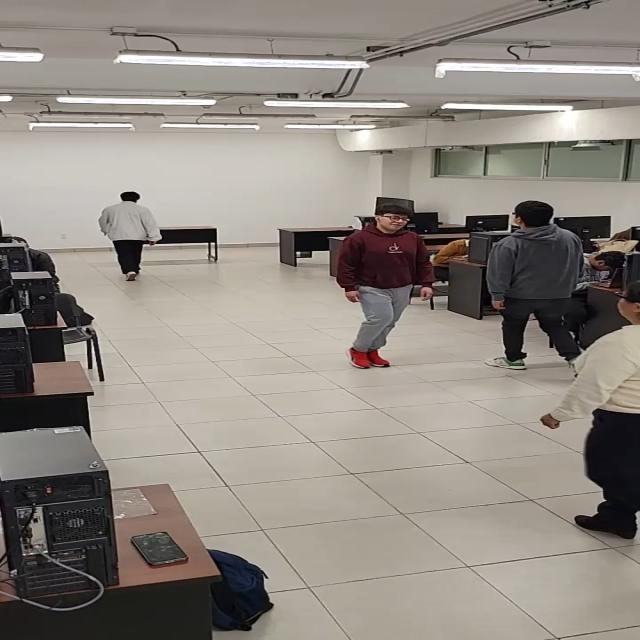Persona: (537, 279, 640, 539), (484, 198, 591, 378), (335, 203, 436, 369), (98, 190, 163, 282)
